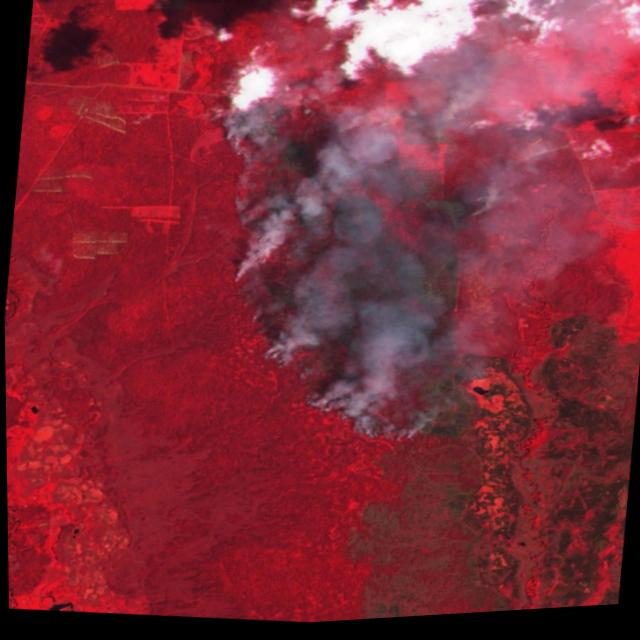fire: (181, 78, 503, 467)
